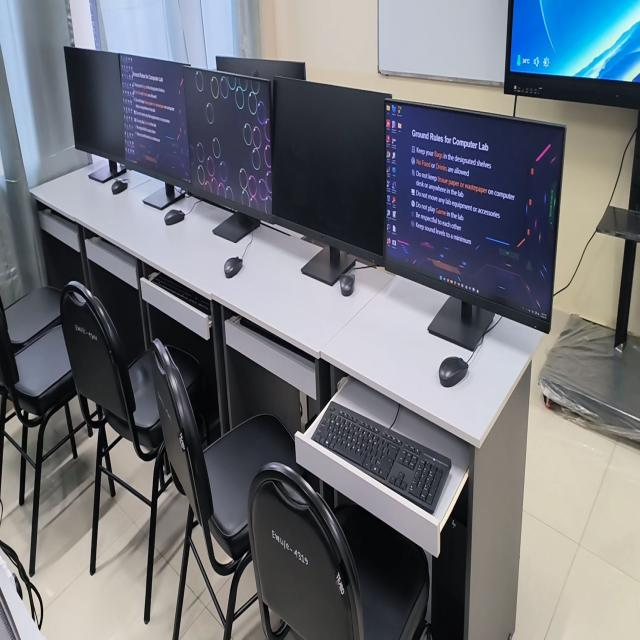Chair: (142, 340, 296, 639), (61, 281, 167, 623), (248, 462, 429, 639), (0, 309, 87, 574), (2, 286, 61, 346)
Cpu: (431, 484, 468, 639)
Digital board: (504, 0, 640, 442)
Keyboard: (311, 400, 450, 508)
Monitor: (384, 99, 565, 351), (272, 76, 391, 284), (183, 66, 272, 242), (119, 55, 190, 209), (64, 47, 126, 183), (216, 56, 306, 80)
Mouse: (439, 356, 468, 387), (224, 257, 242, 278), (339, 273, 355, 296), (164, 209, 185, 225), (111, 180, 128, 194)
